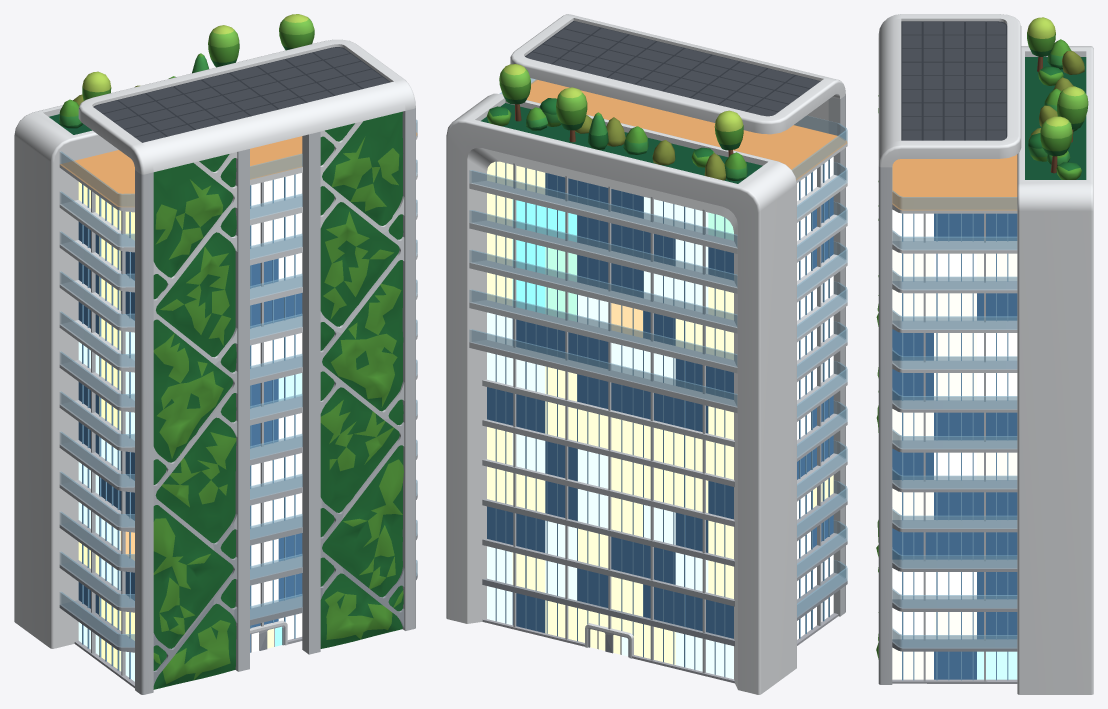
Rendered from predio_eco_grade_verde_pacote.glb.
3 renders of one model, left to right at view 1: azimuth 30°, elevation 25°; view 2: azimuth 150°, elevation 25°; view 3: azimuth 270°, elevation 25°, orthographic.
Visible parts, largest first — view 1: predio_eco_grade_verde_pacote; view 2: predio_eco_grade_verde_pacote; view 3: predio_eco_grade_verde_pacote.
Boxes of the visible parts, x1,y1,x2,y2 form: predio_eco_grade_verde_pacote: [14, 14, 417, 694]; predio_eco_grade_verde_pacote: [446, 14, 847, 694]; predio_eco_grade_verde_pacote: [876, 14, 1093, 694].
Size of the model in its own units: 28 by 46.95 by 16.77.
Materials: 8 (1 with a texture image).
